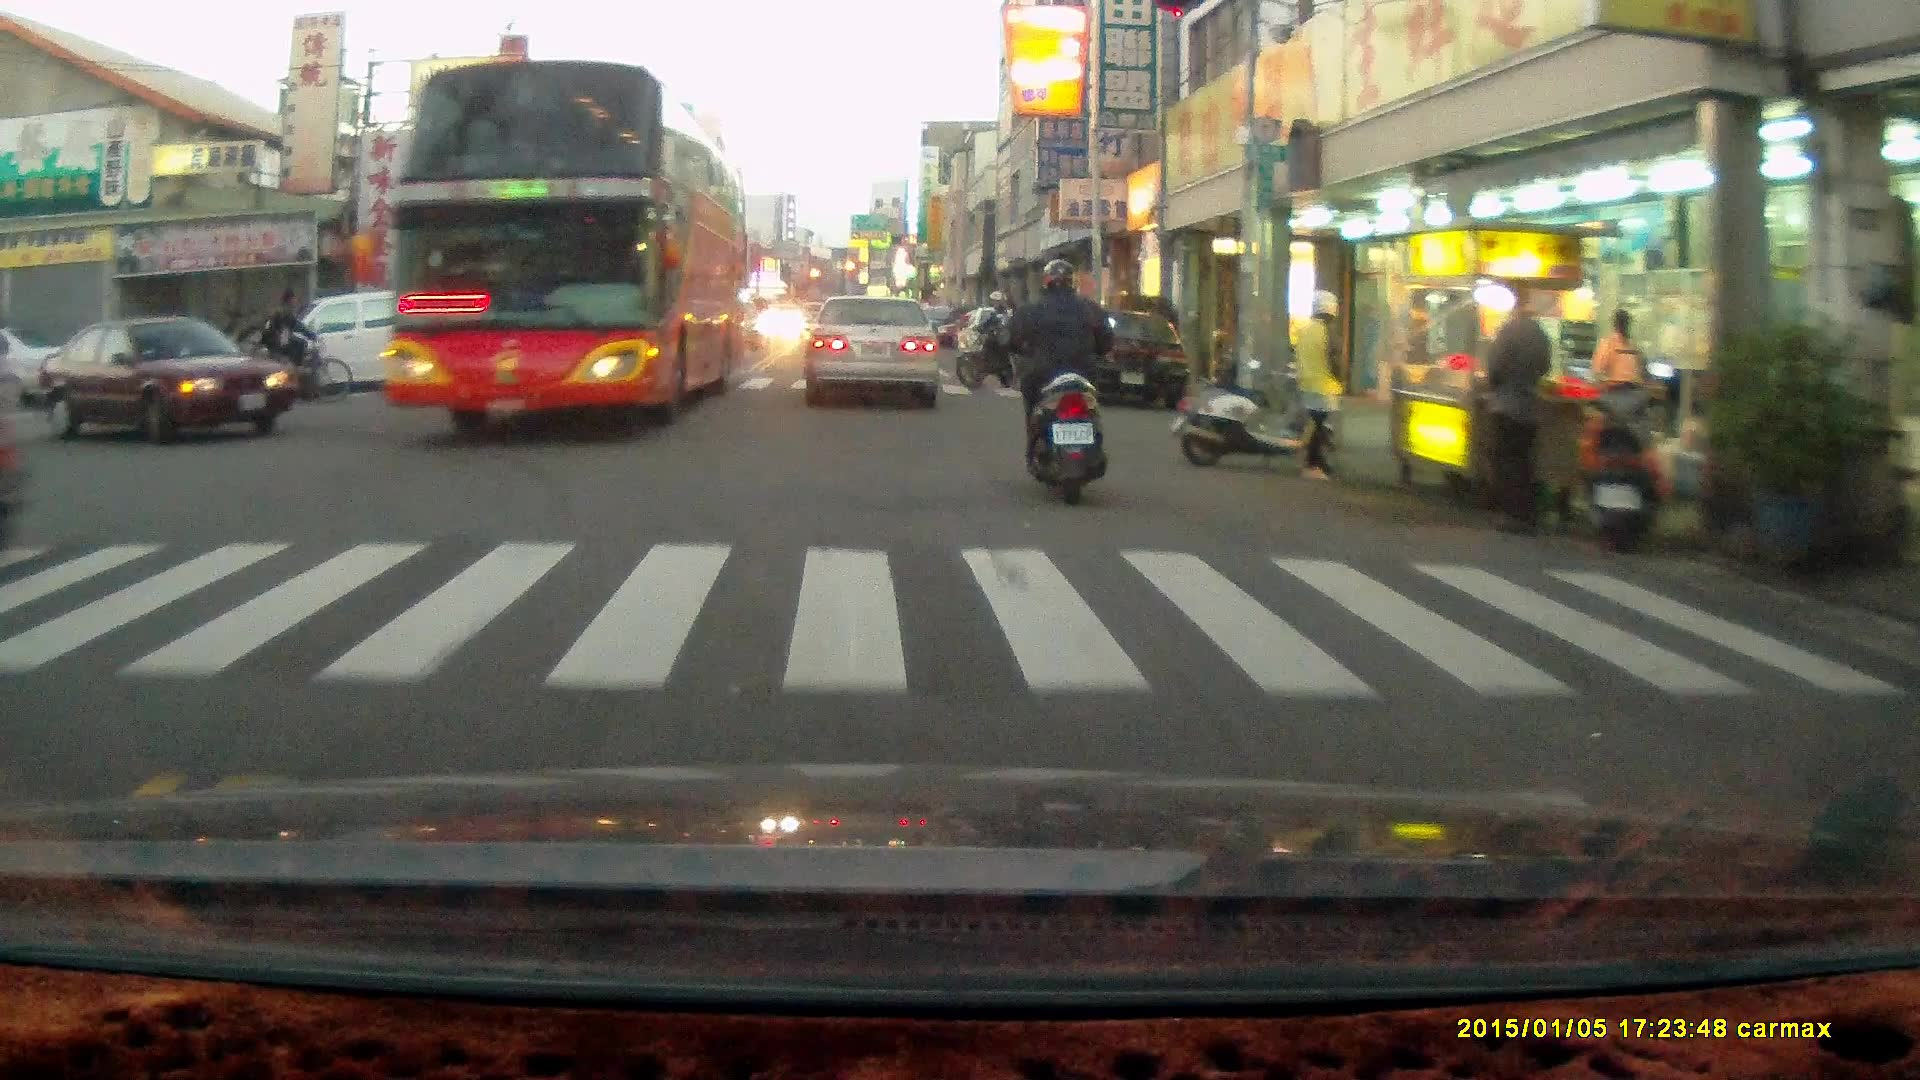pedestrian: (1484, 277, 1553, 537), (1590, 307, 1650, 493), (1292, 288, 1348, 479)
rider: (1001, 248, 1117, 497), (242, 287, 350, 404), (953, 288, 1022, 391)
vehicle: (381, 58, 752, 431), (33, 311, 291, 442), (286, 295, 445, 399), (804, 295, 945, 406), (1050, 304, 1191, 412)
